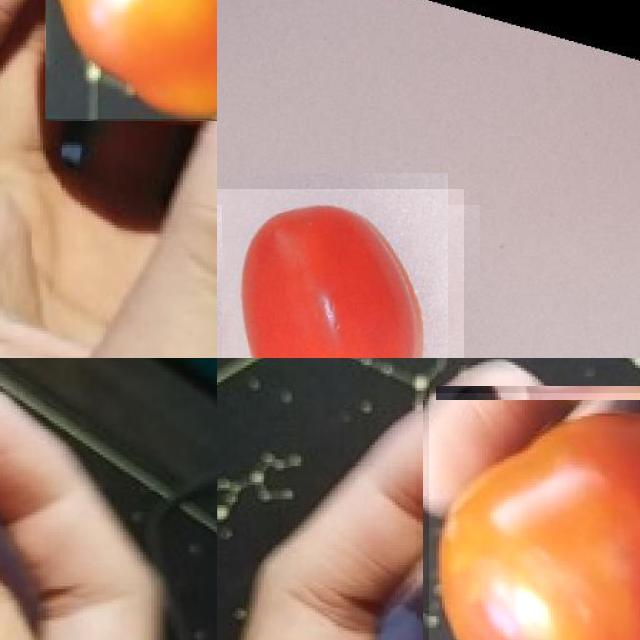Fresh Tomato: (429, 393, 640, 640), (217, 189, 464, 358)
